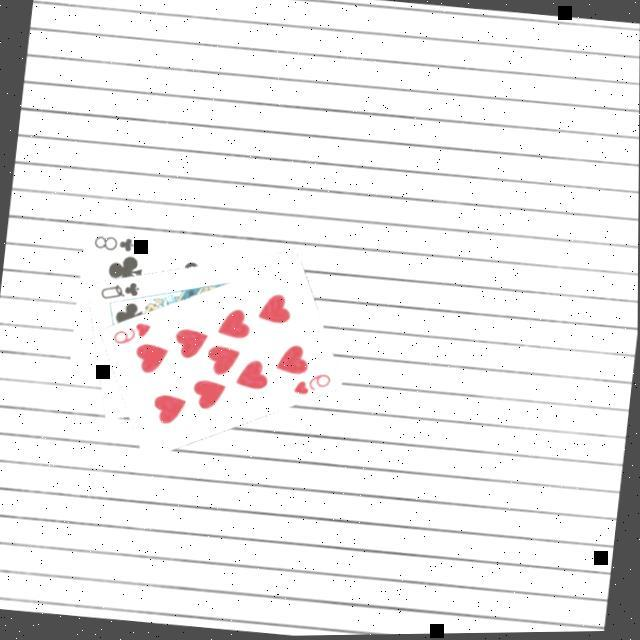8C: (88, 230, 136, 256)
9H: (106, 316, 152, 351), (286, 368, 332, 402)
QC: (95, 275, 142, 307)
